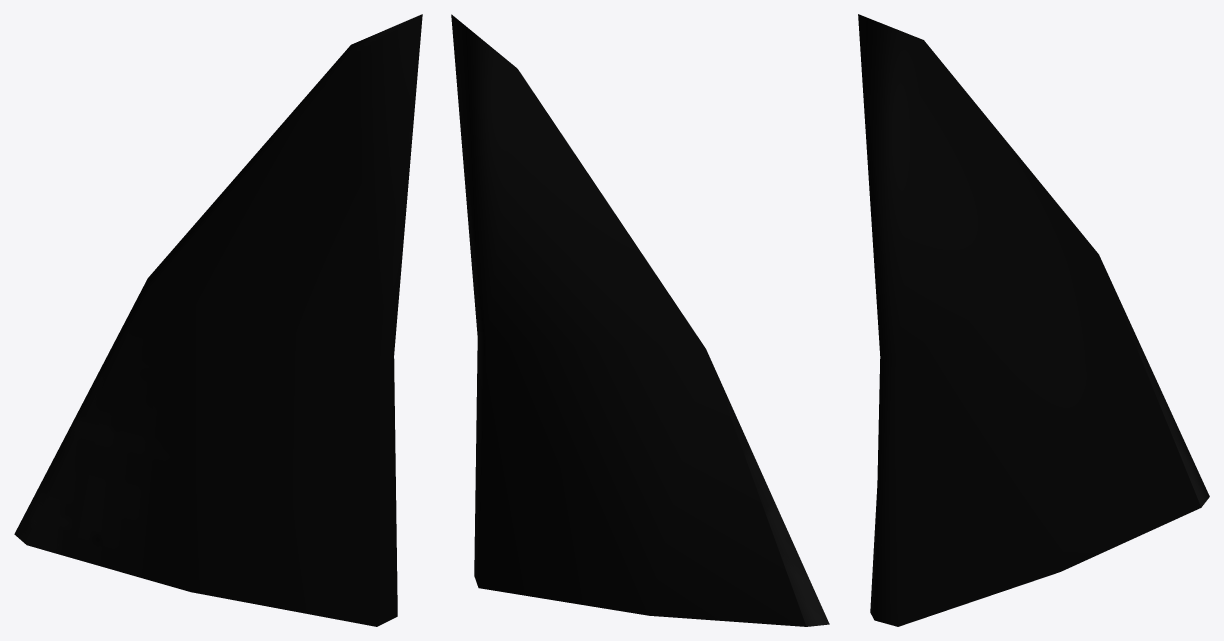
File: 0424_shoudao_M.glb
3 renders of one model, left to right at view 1: azimuth 30°, elevation 25°; view 2: azimuth 210°, elevation 25°; view 3: azimuth 270°, elevation 25°, orthographic. The views are drawn at different scales.
Size of the model in its own units: 0.8982 by 2.2 by 1.13.
1 material, 1 textured.
